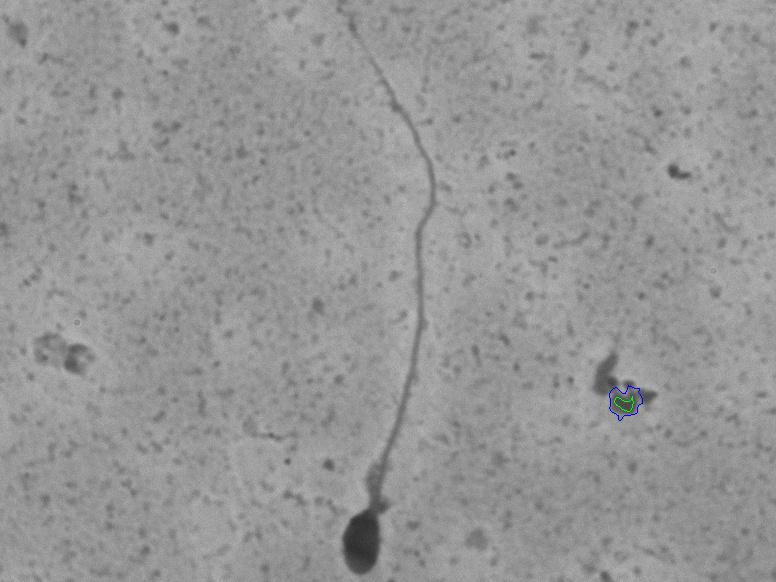Normal: (274, 29, 493, 579)
